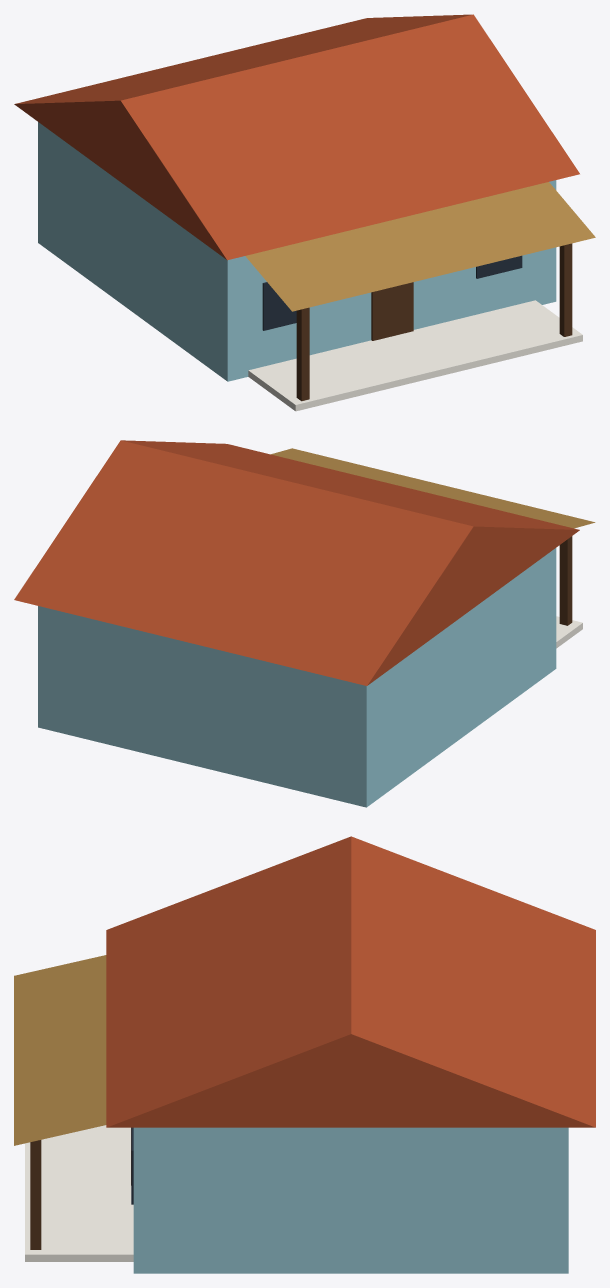
File: bld_bh_cottage.glb
The picture shows the model from 3 angles, top to bottom: view 1: azimuth 30°, elevation 25°; view 2: azimuth 150°, elevation 25°; view 3: azimuth 270°, elevation 25°; orthographic projection. The views are drawn at different scales.
Parts seen in each view (by area): view 1: bld_bh_cottage; view 2: bld_bh_cottage; view 3: bld_bh_cottage.
Part boxes in pixels (bbox=[...]): bld_bh_cottage: bbox=[14, 14, 595, 411]; bld_bh_cottage: bbox=[14, 440, 595, 807]; bld_bh_cottage: bbox=[14, 836, 595, 1273].
Size of what is drawn, in the model's own units: 8.6 by 5 by 10.7.
